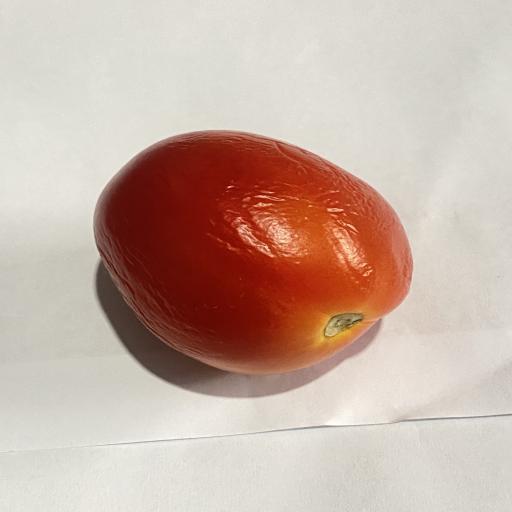spoiled: (94, 130, 412, 374)
